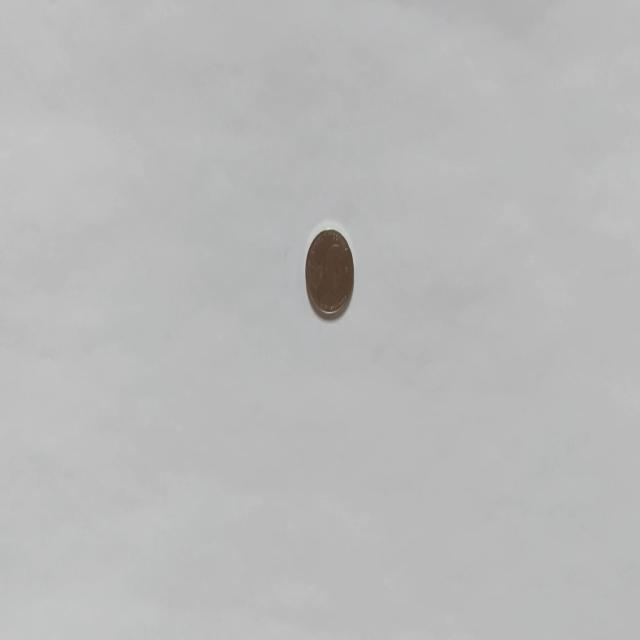seribu rupiah koin: (304, 221, 354, 321)
